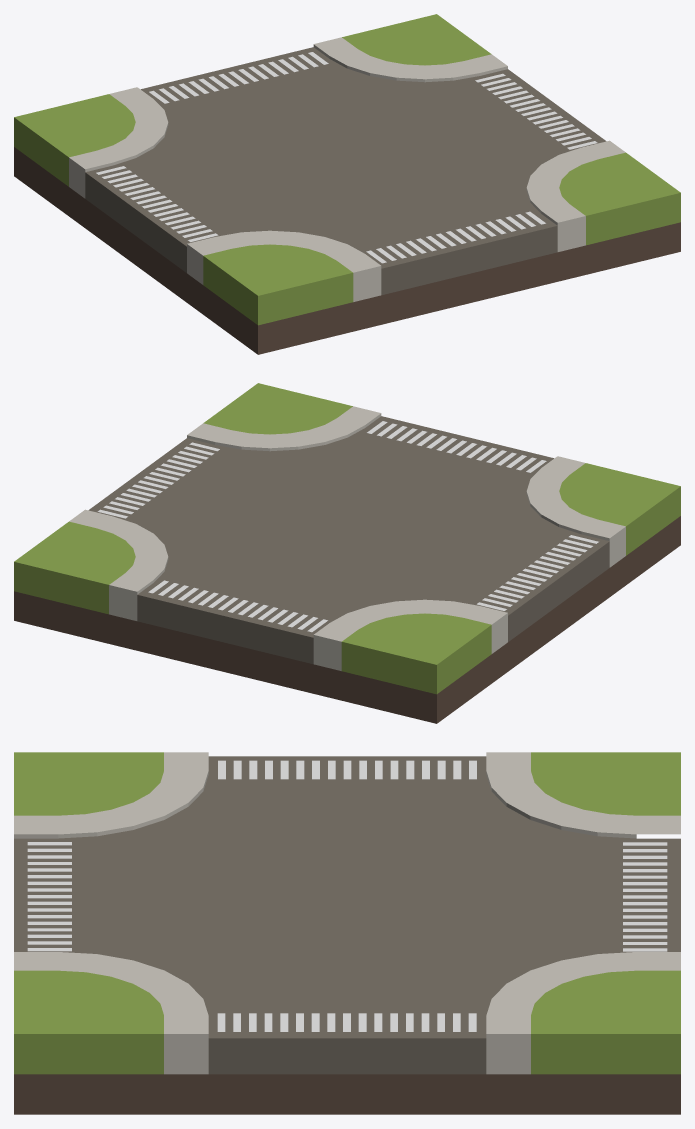
Rendered from mainroad-tile-intersection.fbx.
3 views of the same model, one above another, from view 1: azimuth 30°, elevation 25°; view 2: azimuth 150°, elevation 25°; view 3: azimuth 270°, elevation 25° (orthographic). The views are drawn at different scales.
Visible parts, largest first — view 1: mainroad-tile-intersection; view 2: mainroad-tile-intersection; view 3: mainroad-tile-intersection.
Part boxes in pixels (left/top/right/bottom): mainroad-tile-intersection: left=14, top=14, right=680, bottom=354; mainroad-tile-intersection: left=14, top=383, right=680, bottom=723; mainroad-tile-intersection: left=14, top=752, right=680, bottom=1114.
Bounding box in the file's own units: 3000 × 400 × 3000.
